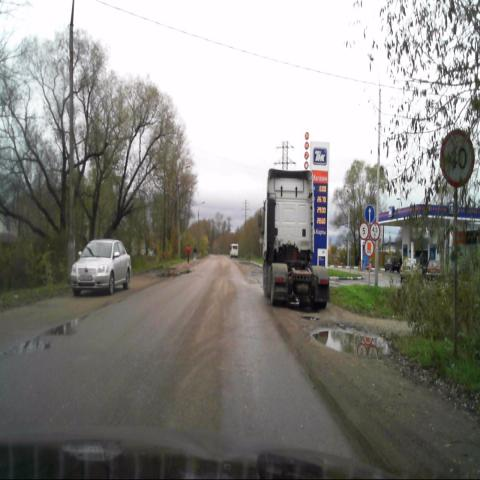3_24: (439, 126, 475, 188)
